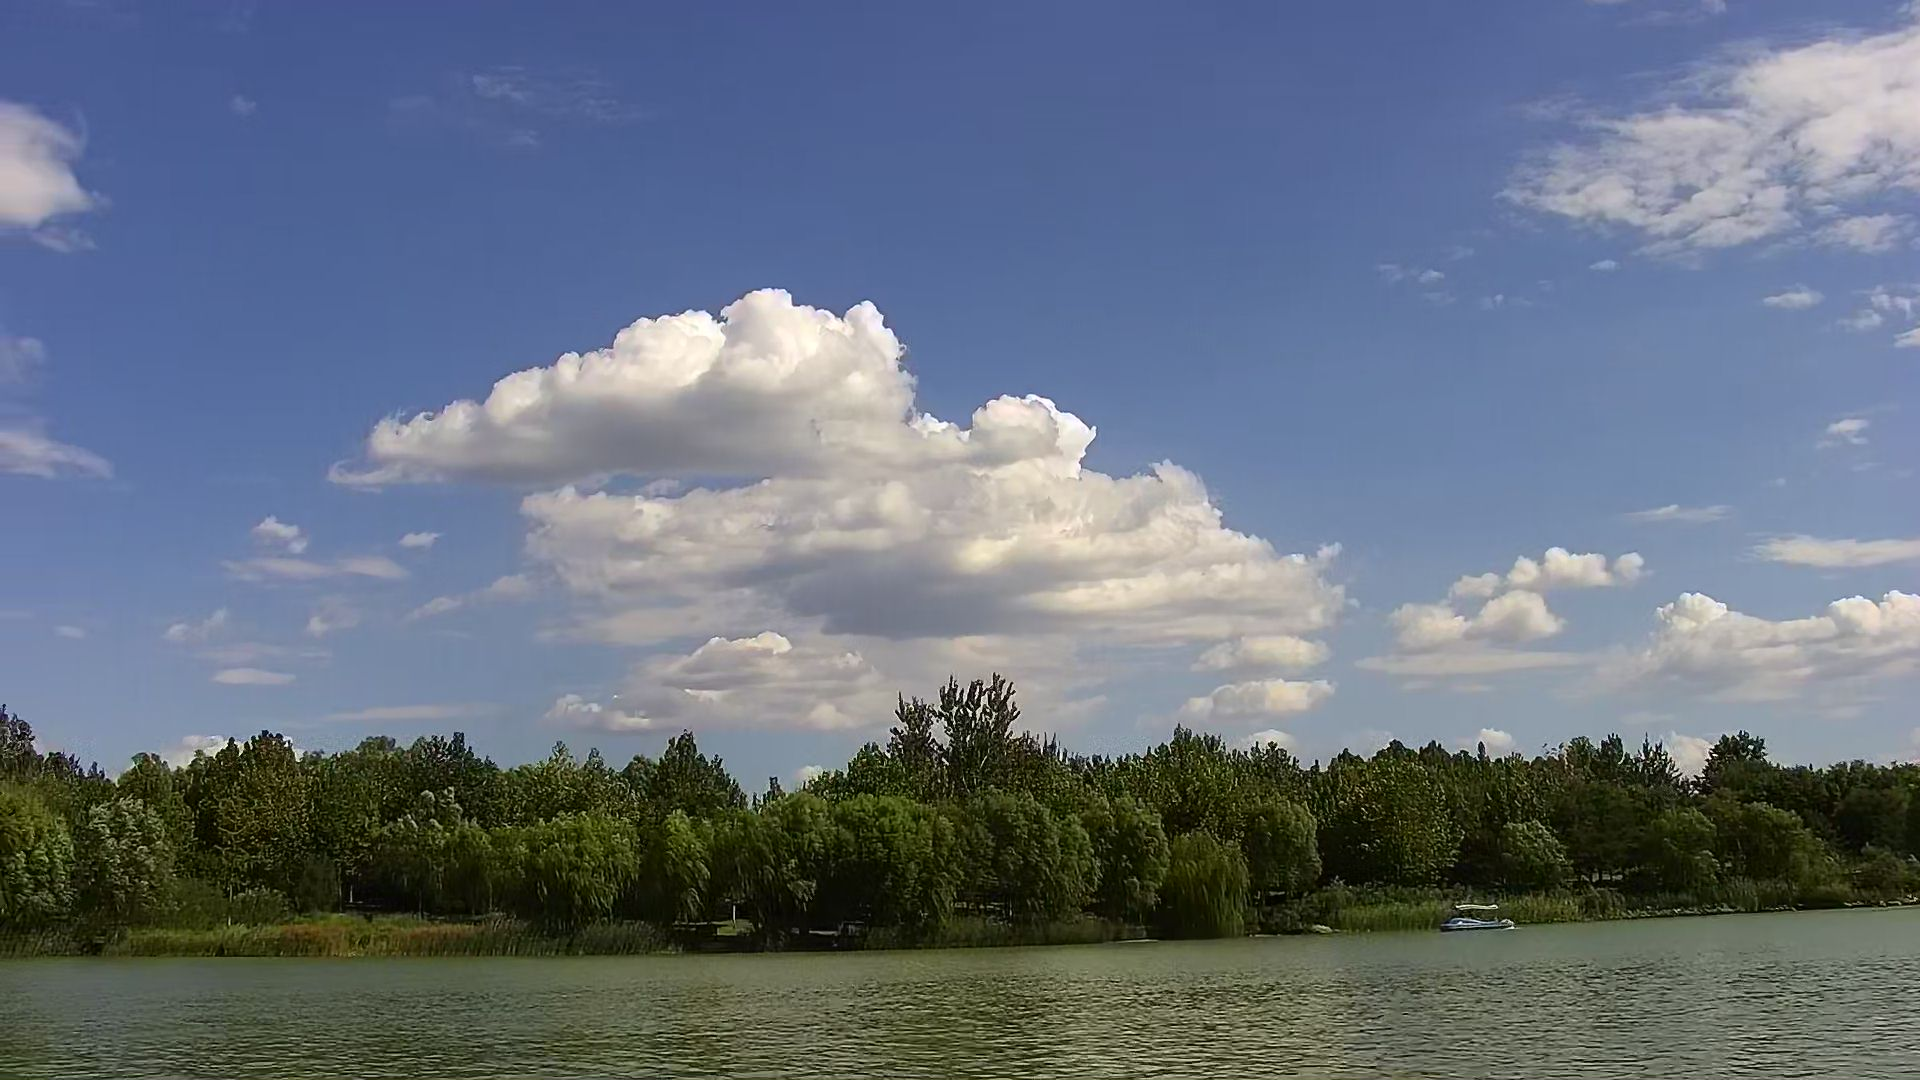boat: (1437, 899, 1510, 930)
